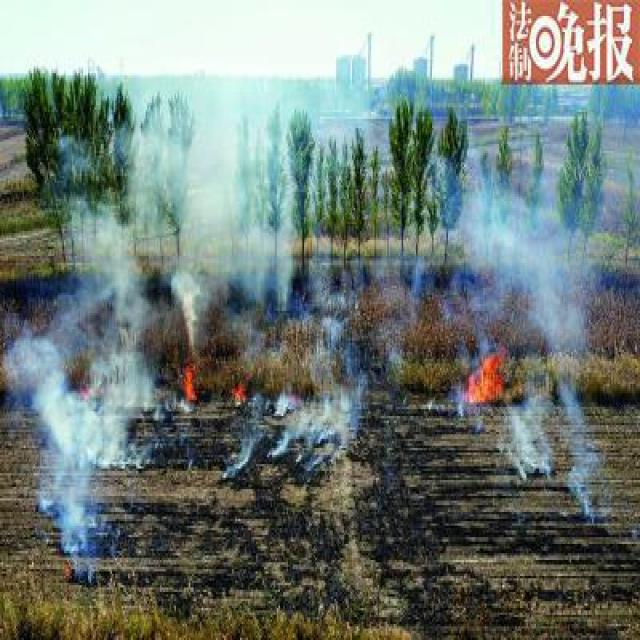fire: (448, 329, 513, 414), (171, 348, 212, 411), (222, 365, 258, 408)
smoke: (5, 232, 150, 570), (150, 124, 317, 303)
